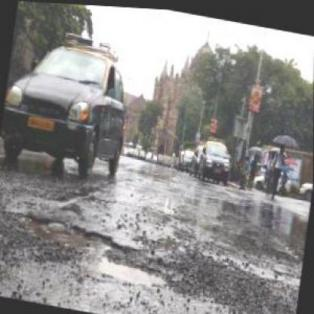Hueco: (21, 213, 122, 257), (93, 247, 173, 290)
